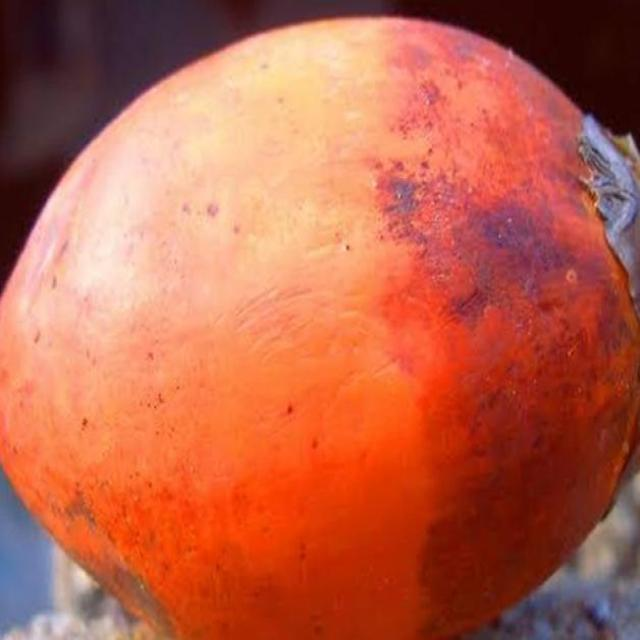good: (0, 14, 639, 639)
